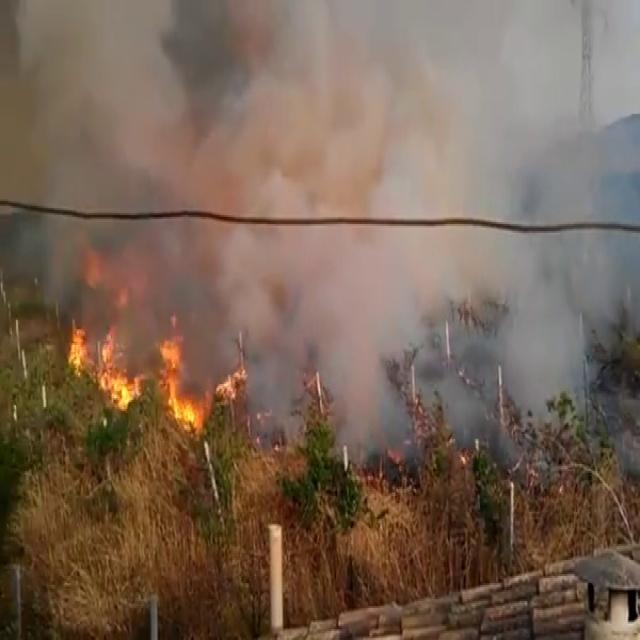Fire: (62, 300, 212, 438)
Smoke: (1, 0, 640, 460)
